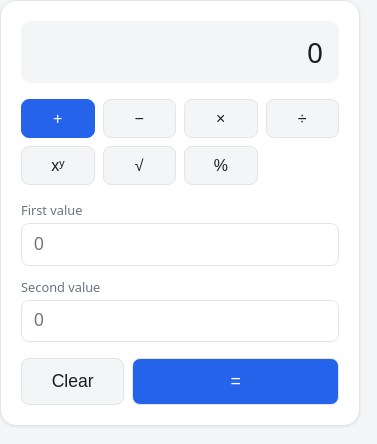
Test: Calculator › surfaces a server-side error message
Click the button named "Divide": (302, 119) [266,99,339,138]
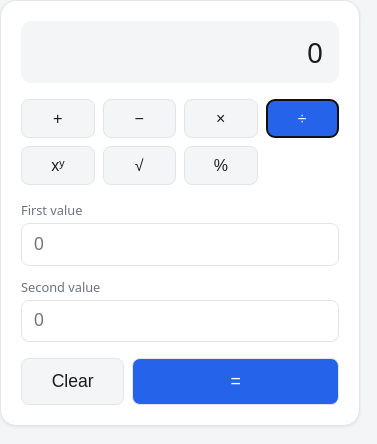
In the number field labelled "First value": (180, 244) [21,223,339,266], type "10"
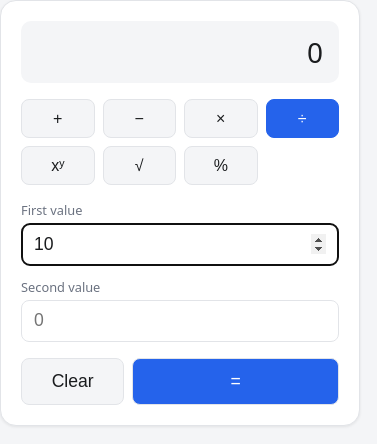
In the number field labelled "Second value": (180, 321) [21,300,339,342], type "2"
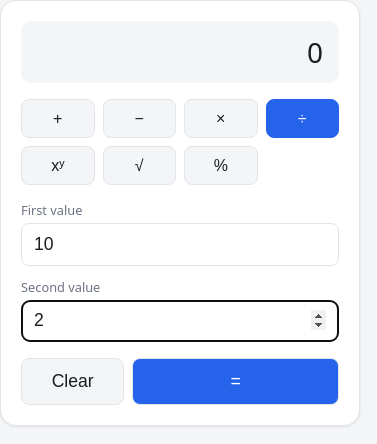
Click the button "=": (236, 381) [132,358,339,405]
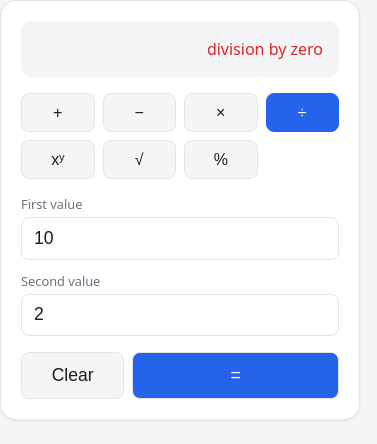
Expected: the text "division by zero" is shown, [207,38,323,60]
